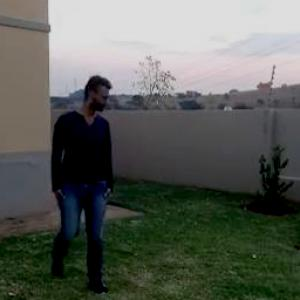follow: (48, 63, 132, 299)
